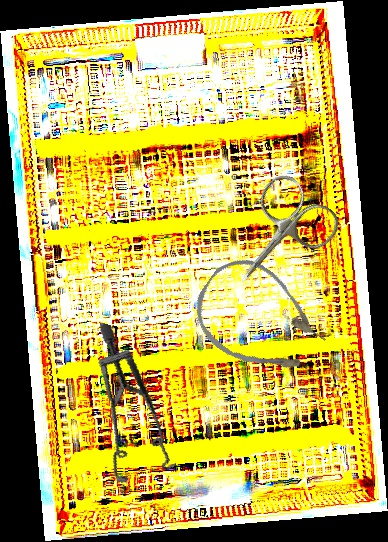Cannula: (180, 245, 340, 396)
Iris Scissors: (208, 167, 347, 309)
Speculum: (55, 322, 211, 497)
